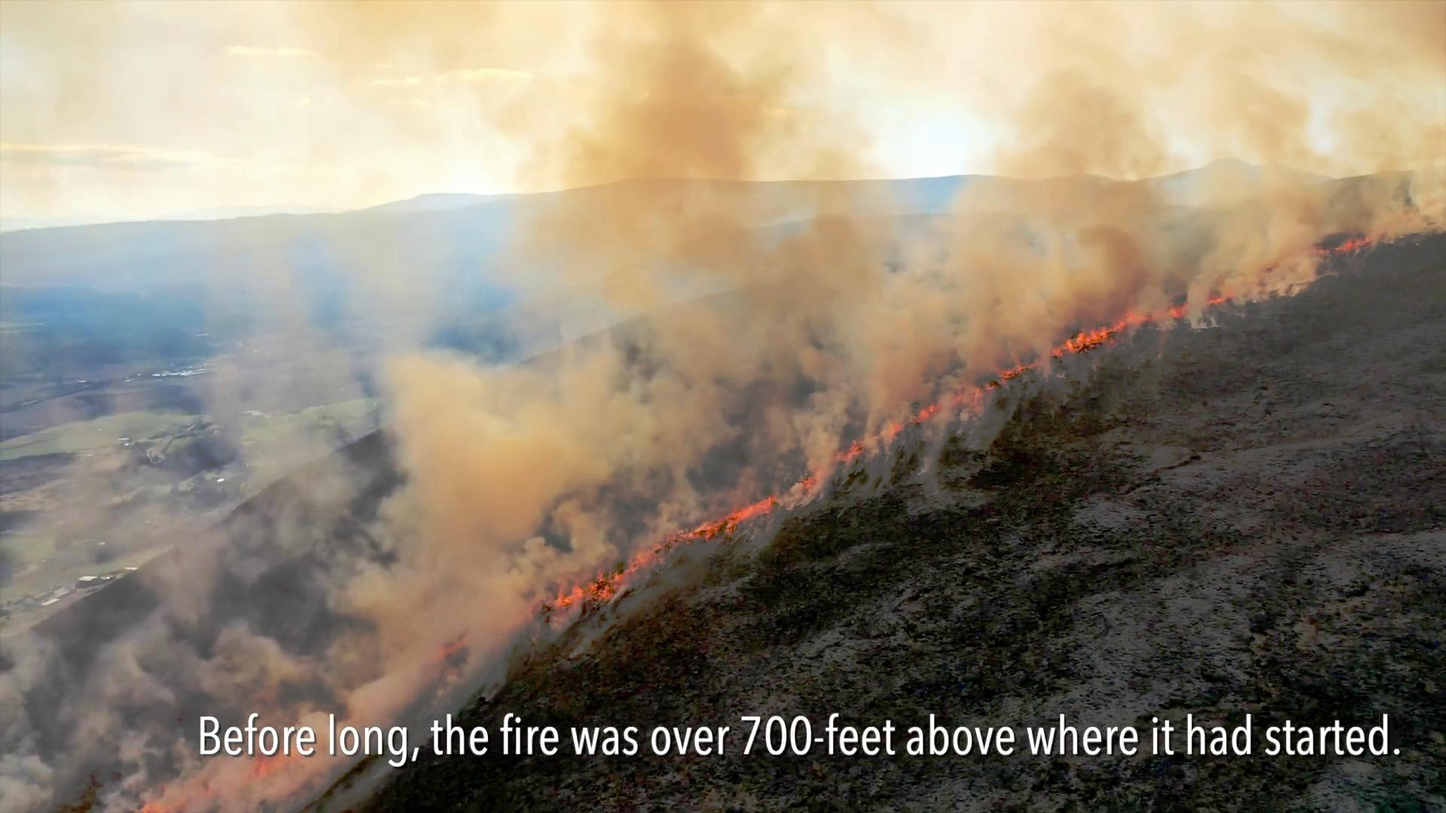fire: (569, 572, 620, 605), (712, 495, 772, 520)
smoke: (584, 47, 778, 237), (405, 371, 617, 505), (972, 207, 1132, 317), (373, 544, 523, 630), (863, 294, 923, 411)
